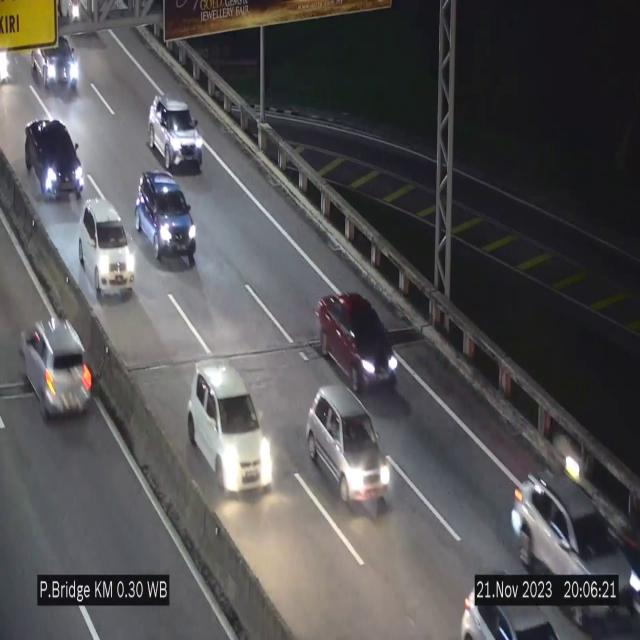Car: (506, 441, 630, 623), (18, 295, 98, 433), (188, 360, 268, 492), (307, 386, 391, 506), (317, 294, 405, 403), (456, 562, 561, 640), (15, 112, 89, 204), (135, 171, 197, 266), (78, 199, 136, 299), (148, 94, 203, 171), (29, 29, 83, 92)
